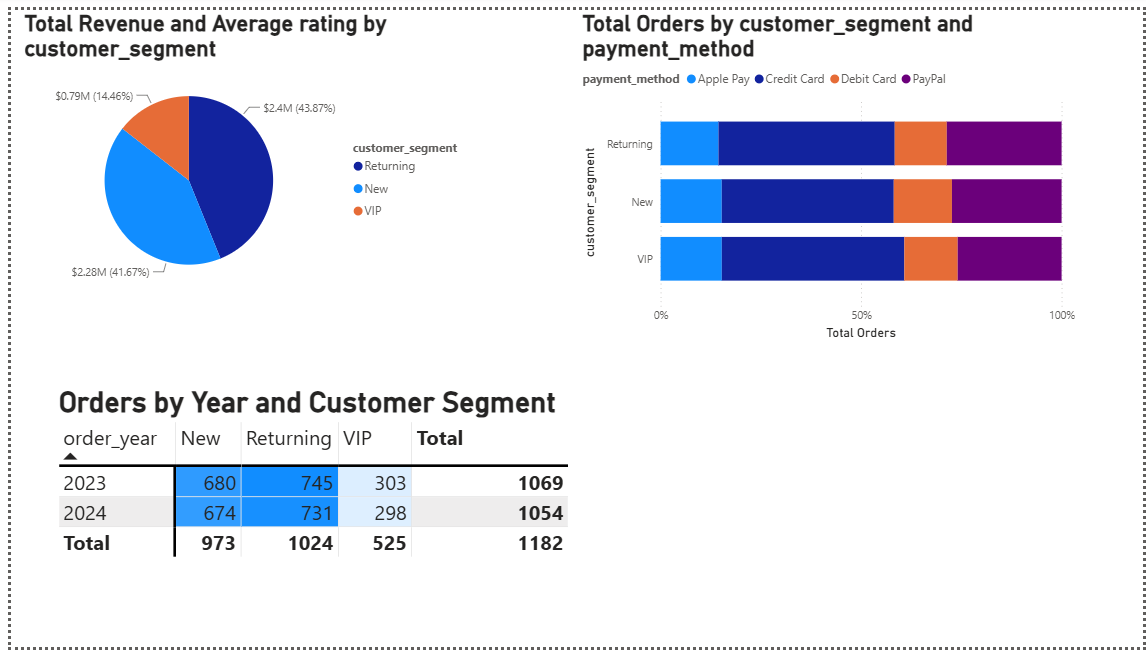

This screenshot's page, from the dashboard's own definition file:
{"tool":"powerbi","page":{"name":"Customer behaviour and retention ","canvas":[1280,720],"ordinal":2},"visuals":[{"type":"pieChart","fields":{"Category":["ecommerce_preprocessed.customer_segment"],"Y":["ecommerce_preprocessed.Total Revenue"]},"box":[9.7,0,514.9,327.1],"z":0},{"type":"hundredPercentStackedBarChart","fields":{"Category":["ecommerce_preprocessed.customer_segment"],"Y":["ecommerce_preprocessed.Total Orders"],"Series":["ecommerce_preprocessed.payment_method"]},"box":[591.4,0,514.3,375.7],"z":1000},{"type":"pivotTable","fields":{"Rows":["ecommerce_preprocessed.order_year"],"Columns":["ecommerce_preprocessed.customer_segment"],"Values":["Calender.Total Customers"]},"box":[0,397.1,325.7,162.9],"z":1001}]}

Visuals, with their boxes in screenshot pixels (x1, y1, x2, y2), scaled from the page's 1280x720 canvas onto the 1146x651 screenshot:
pieChart - ecommerce_preprocessed.customer_segment x ecommerce_preprocessed.Total Revenue: bbox=(9, 0, 470, 296)
hundredPercentStackedBarChart - ecommerce_preprocessed.customer_segment x ecommerce_preprocessed.Total Orders: bbox=(529, 0, 990, 340)
pivotTable - ecommerce_preprocessed.order_year x ecommerce_preprocessed.customer_segment: bbox=(0, 359, 292, 506)
